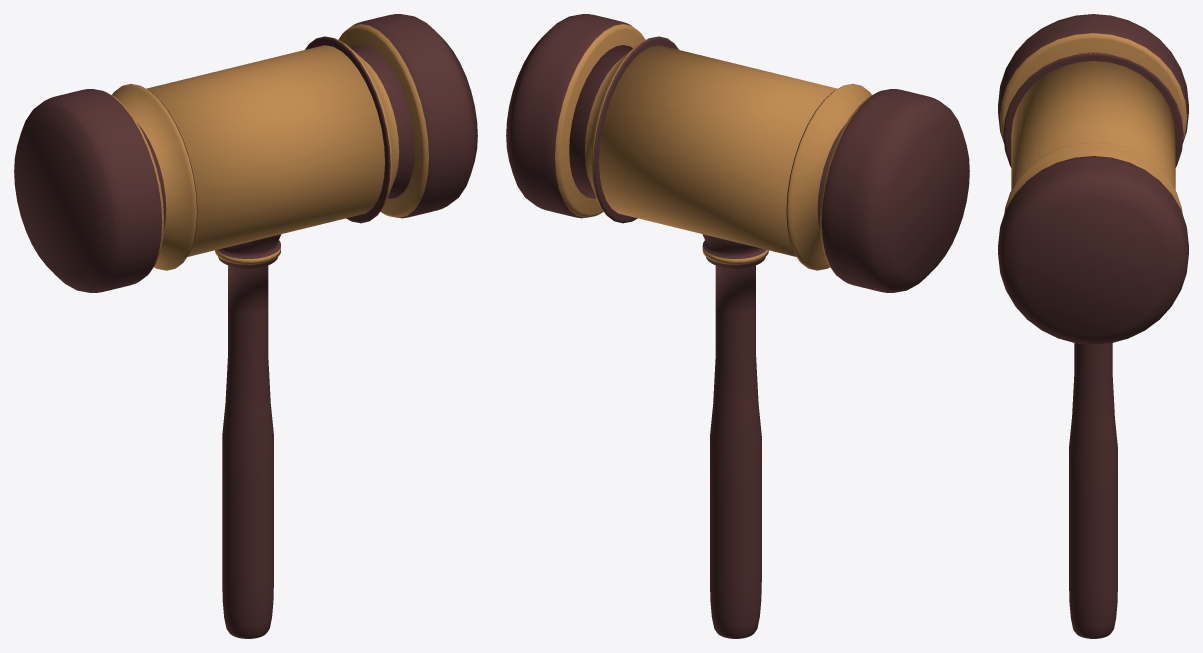
The model's file is tokmak 0.1.fbx.
The picture shows the model from 3 angles, left to right: view 1: azimuth 30°, elevation 25°; view 2: azimuth 150°, elevation 25°; view 3: azimuth 270°, elevation 25°; orthographic projection. The views are drawn at different scales.
Parts seen in each view (by area): view 1: TOKMAK; view 2: TOKMAK; view 3: TOKMAK.
Part boxes in pixels (bbox=[...]): TOKMAK: bbox=[14, 14, 477, 638]; TOKMAK: bbox=[506, 14, 969, 638]; TOKMAK: bbox=[998, 14, 1188, 638].
Bounding box in the file's own units: 29.39 × 41.64 × 13.4.
